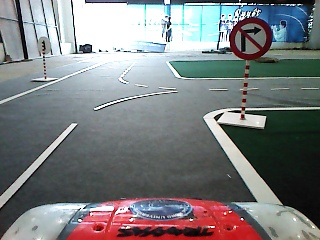ban_right: (230, 18, 274, 59)
